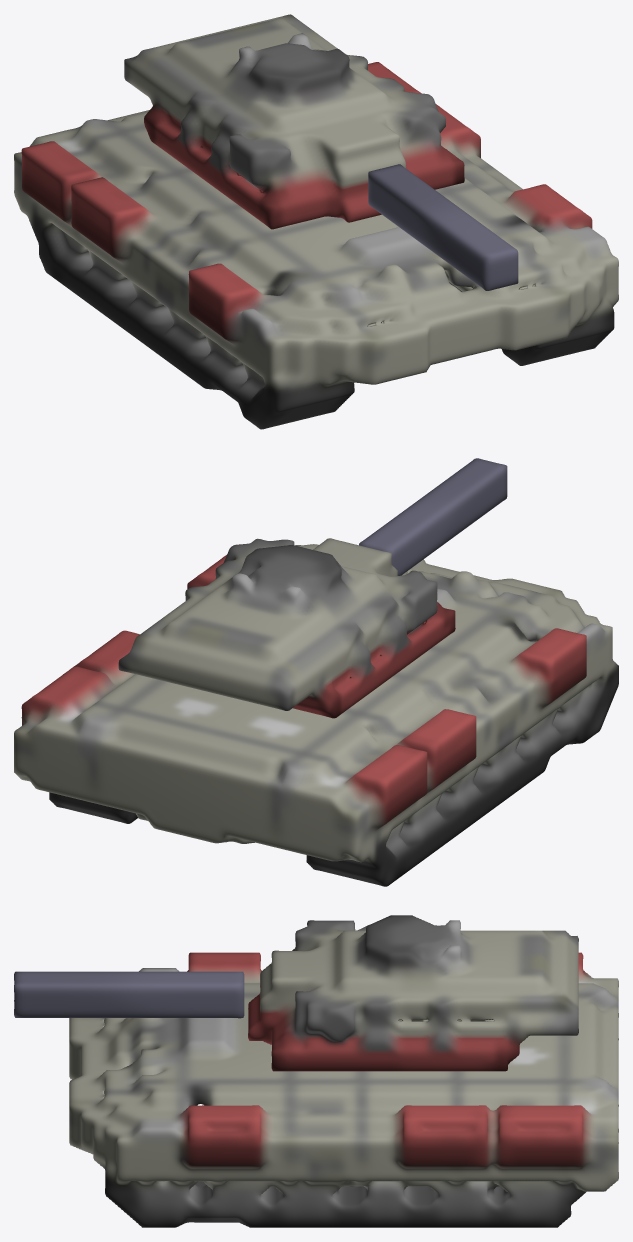
The model's file is rhino_tank.glb.
3 views of the same model, one above another, from view 1: azimuth 30°, elevation 25°; view 2: azimuth 150°, elevation 25°; view 3: azimuth 270°, elevation 25° (orthographic). The views are drawn at different scales.
Visible parts, largest first — view 1: rhino_tank; view 2: rhino_tank; view 3: rhino_tank.
Part boxes in pixels (box(x1,y1,x2,y2)): rhino_tank: box(14, 14, 618, 429); rhino_tank: box(14, 458, 618, 886); rhino_tank: box(14, 915, 618, 1227).
Bounding box in the file's own units: 2.8 × 1.65 × 4.13.
